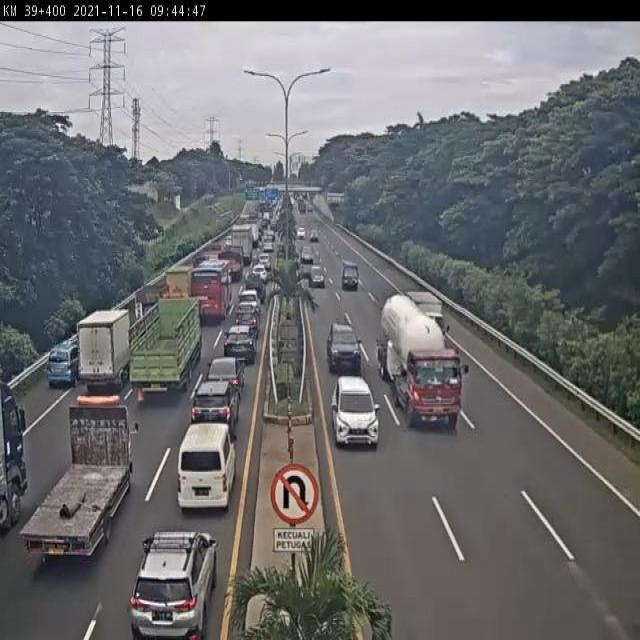big bus: (188, 259, 232, 321)
car: (128, 528, 216, 640), (174, 426, 234, 510), (329, 375, 380, 449), (188, 382, 236, 447), (324, 320, 362, 371), (44, 342, 83, 386), (205, 355, 246, 396), (223, 327, 255, 365), (232, 308, 259, 335), (236, 288, 261, 316)
small truck: (77, 311, 130, 397), (407, 289, 447, 343), (130, 280, 168, 320), (163, 263, 196, 309)
truck-l-: (128, 297, 202, 403)
truck-m-: (22, 396, 142, 561)
truck-xl-: (376, 298, 468, 426)
